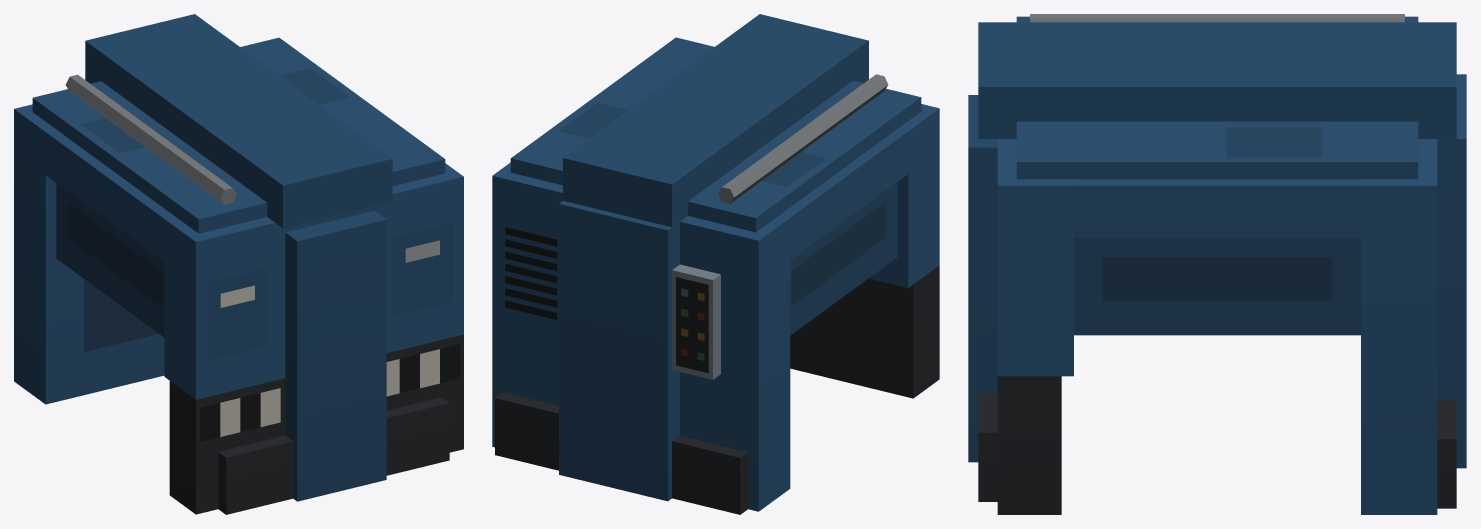
File: machine.heavy.blue.glb
The picture shows the model from 3 angles, left to right: view 1: azimuth 30°, elevation 25°; view 2: azimuth 150°, elevation 25°; view 3: azimuth 270°, elevation 25°; orthographic projection. The views are drawn at different scales.
Parts seen in each view (by area): view 1: machine_heavy_blue; view 2: machine_heavy_blue; view 3: machine_heavy_blue.
Boxes of the visible parts, left/top/right/bottom form: machine_heavy_blue: left=14, top=14, right=463, bottom=514; machine_heavy_blue: left=492, top=14, right=939, bottom=514; machine_heavy_blue: left=968, top=14, right=1466, bottom=514.
Size of what is drawn, in the model's own units: 1.96 by 2.2 by 2.61.
